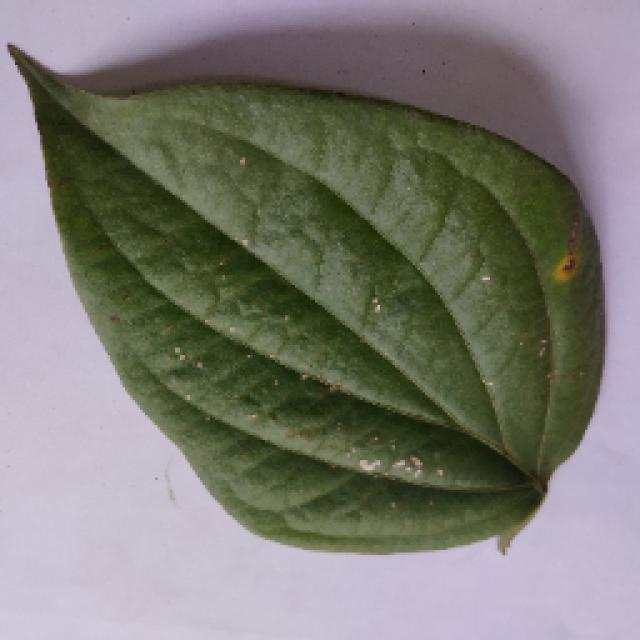pollu-disease: (20, 32, 615, 548)
